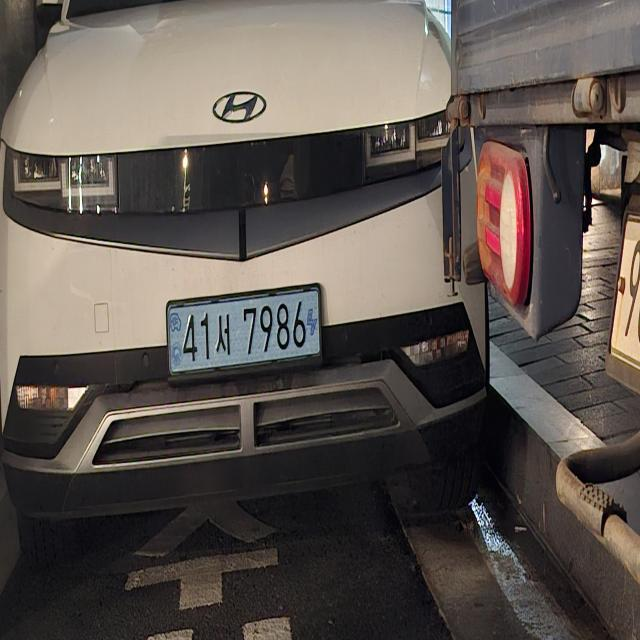car: (159, 269, 333, 415)
carev: (168, 308, 185, 380), (304, 288, 321, 357)
